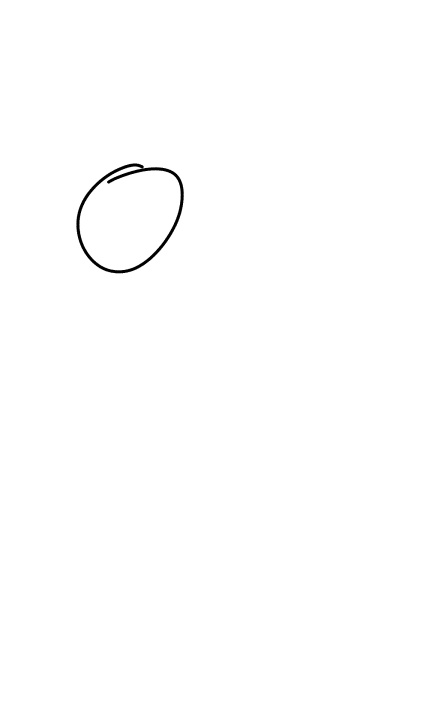Circle: (71, 161, 188, 277)
